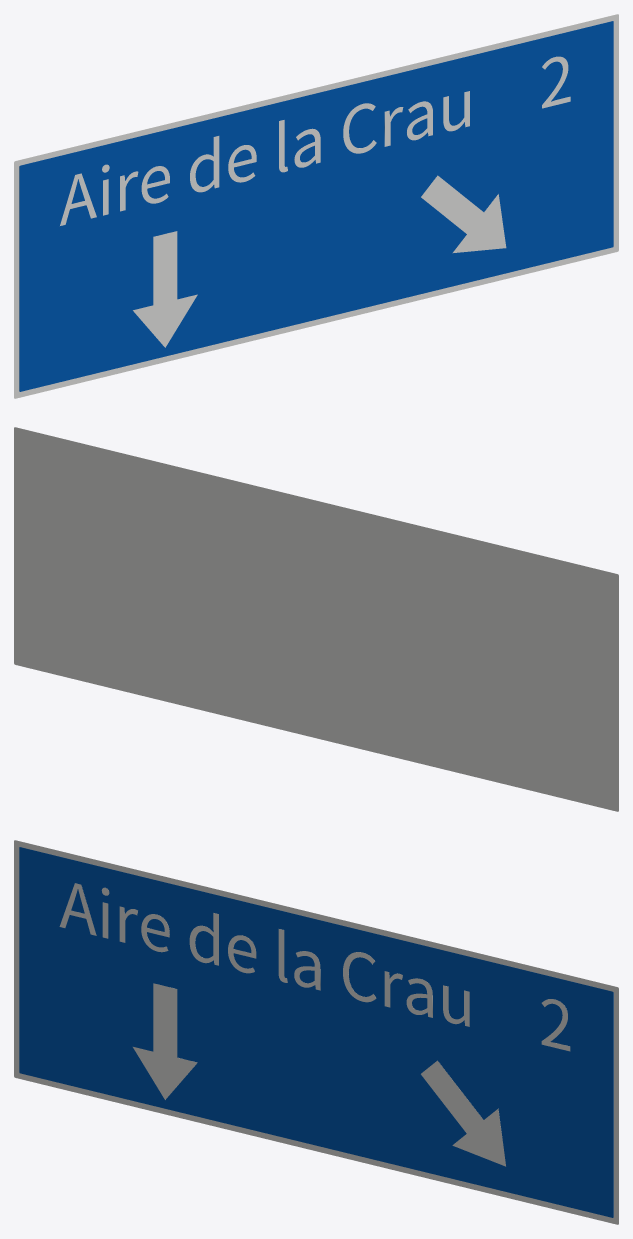
The picture shows the model from 3 angles, top to bottom: view 1: azimuth 30°, elevation 25°; view 2: azimuth 150°, elevation 25°; view 3: azimuth 330°, elevation 25°; orthographic projection.
Visible parts, largest first — view 1: Da51br_reg01, Da51br_lis00, Da51br_txt04, Da51br_voie02, Da51br_voie03, Da51br_txt05; view 2: Da51br_lis00; view 3: Da51br_reg01, Da51br_lis00, Da51br_txt04, Da51br_voie02, Da51br_voie03, Da51br_txt05.
Part boxes in pixels (x1=…): Da51br_reg01: x1=19, y1=21, x2=613, y2=391; Da51br_lis00: x1=14, y1=14, x2=618, y2=398; Da51br_txt04: x1=60, y1=91, x2=469, y2=225; Da51br_voie02: x1=133, y1=231, x2=197, y2=347; Da51br_voie03: x1=421, y1=175, x2=506, y2=253; Da51br_txt05: x1=542, y1=56, x2=570, y2=108; Da51br_lis00: x1=14, y1=427, x2=618, y2=811; Da51br_reg01: x1=19, y1=847, x2=613, y2=1217; Da51br_lis00: x1=14, y1=840, x2=618, y2=1224; Da51br_txt04: x1=59, y1=883, x2=469, y2=1026; Da51br_voie02: x1=133, y1=983, x2=197, y2=1099; Da51br_voie03: x1=421, y1=1060, x2=505, y2=1166; Da51br_txt05: x1=541, y1=999, x2=570, y2=1051.
Size of the model in its own units: 4.26 by 1.6 by 0.0024.
